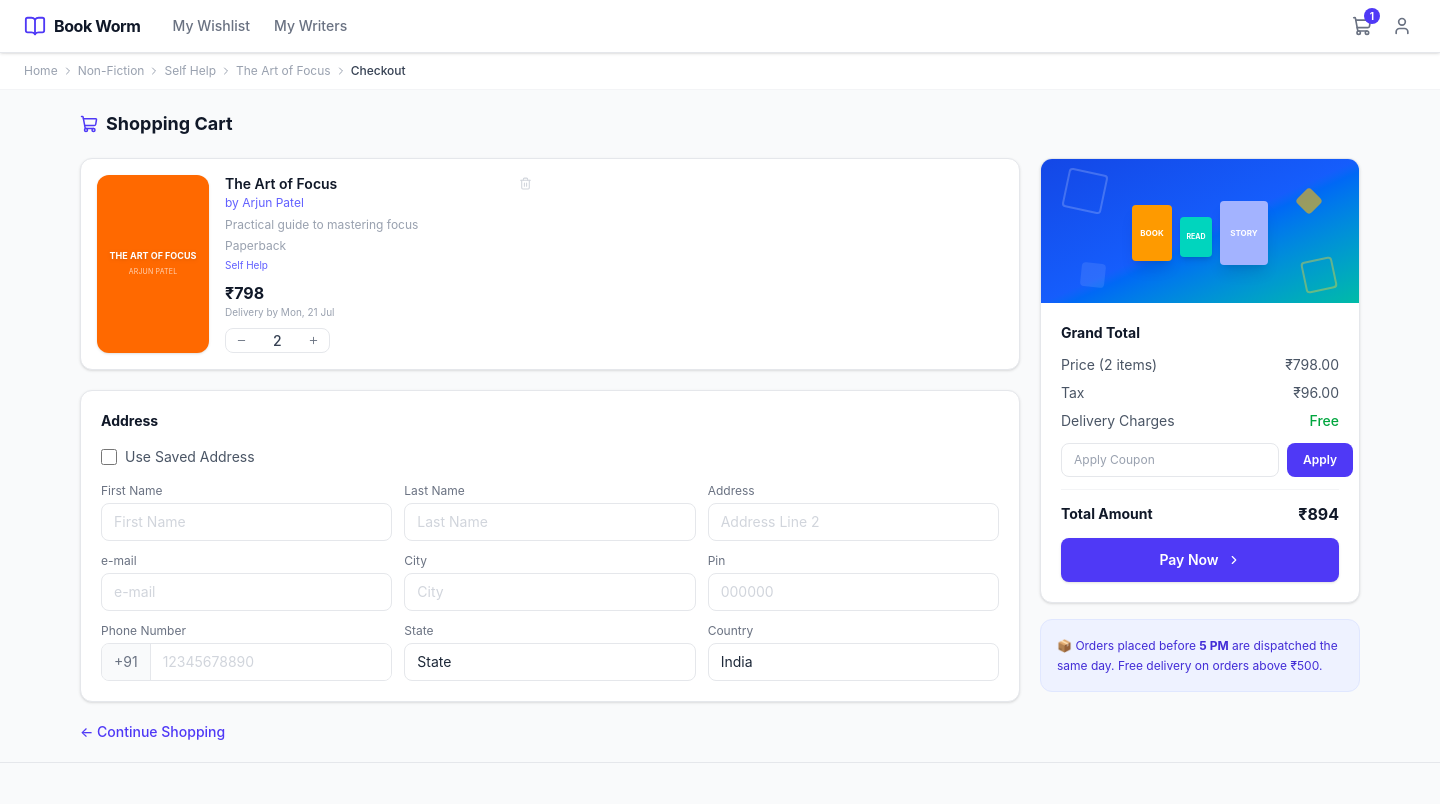
CartPage › validates required address fields when clicking Pay Now
This screenshot has width=1440, height=804.
Click the button "Pay Now" at [1200, 560], box [1061,538,1339,582]
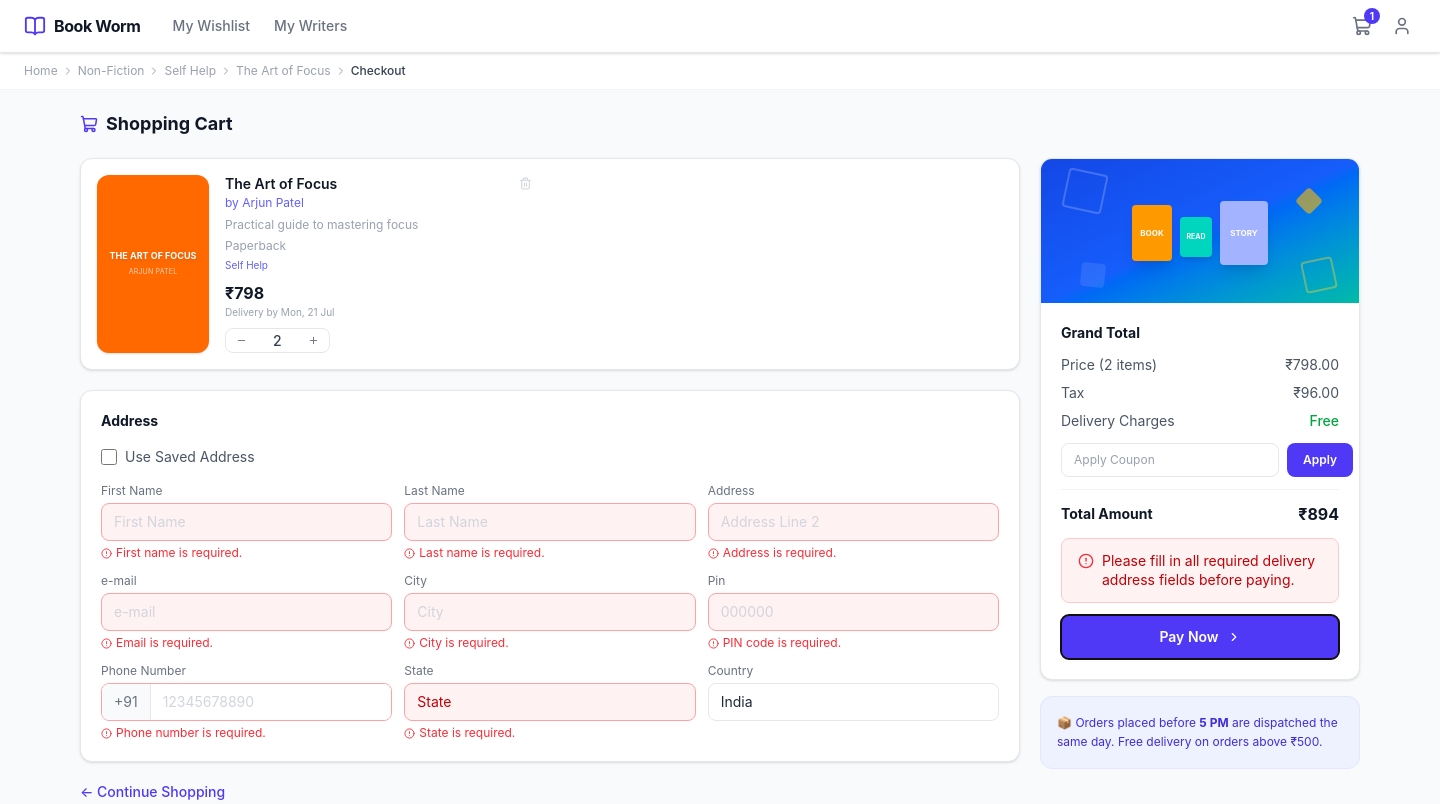
Now the text "First name is required." is shown, box [101,545,242,560]
Now the text "Last name is required." is shown, box [404,545,545,560]
Now the text "Address is required." is shown, box [708,545,836,560]
